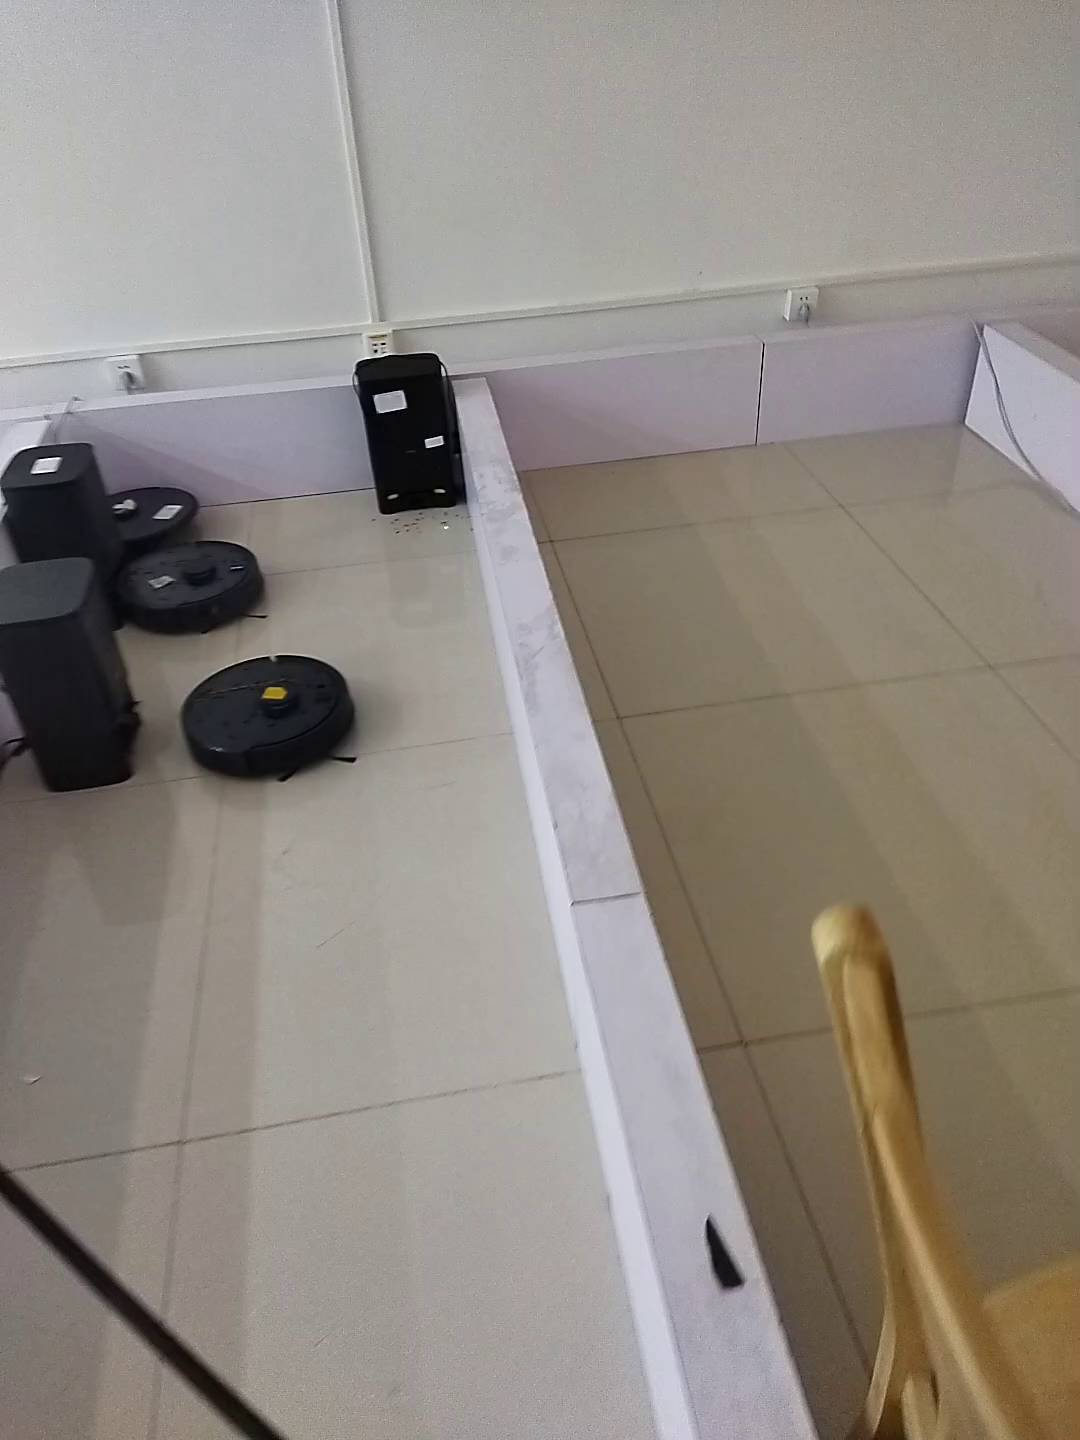dust collecting barrel: (1, 554, 142, 794), (1, 440, 136, 627), (352, 353, 467, 514)
